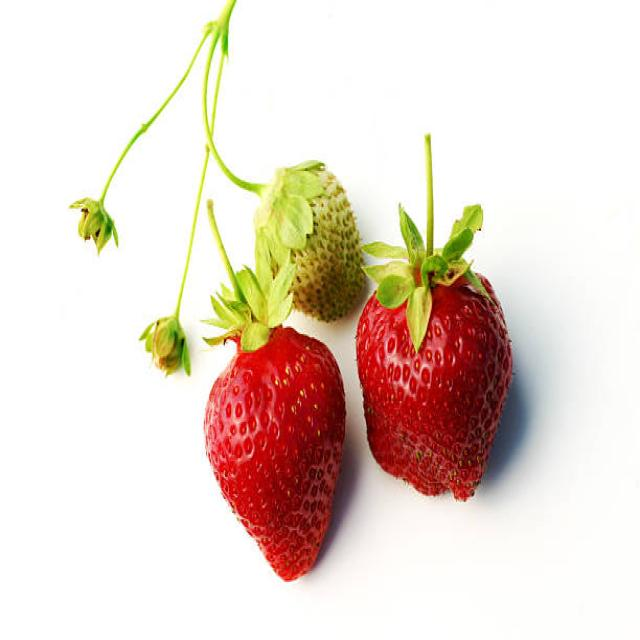Healthy Fruit: (203, 329, 348, 582), (356, 273, 514, 501), (270, 163, 365, 321)
